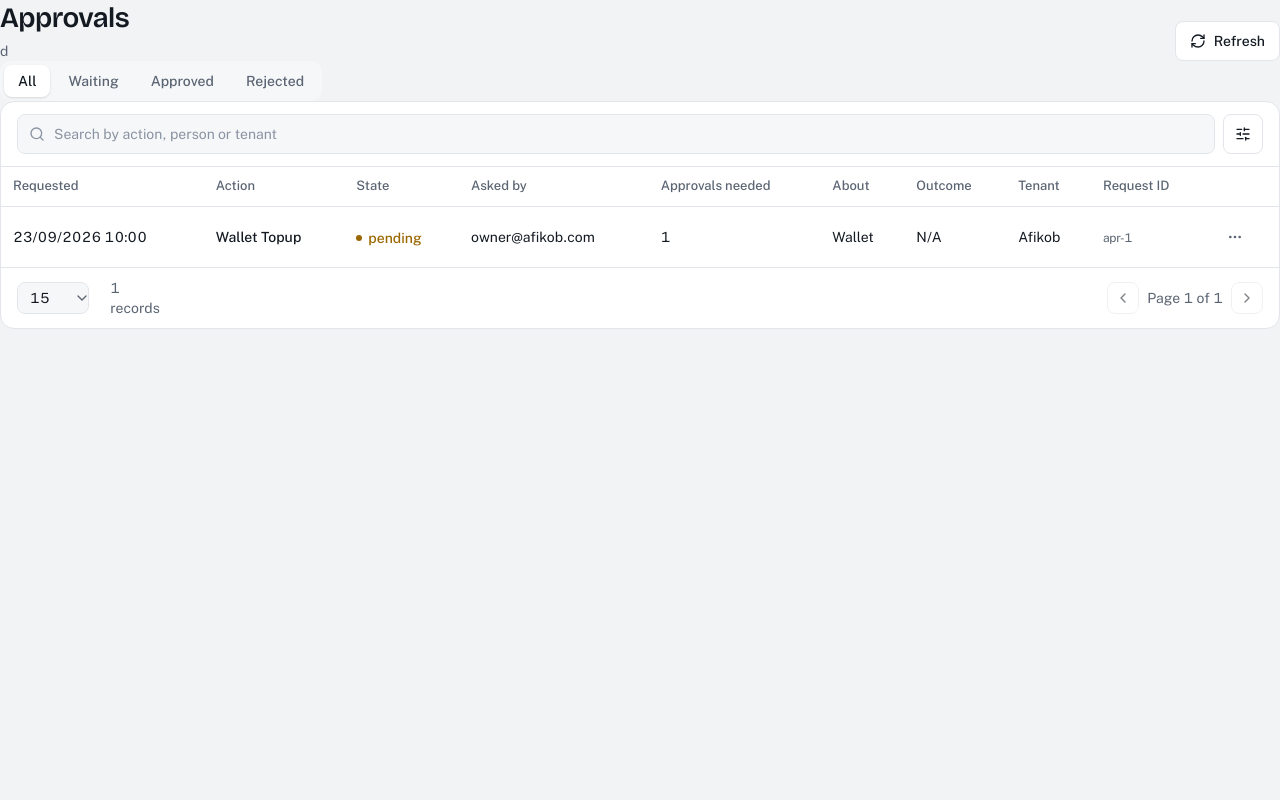
Test: Approvals inbox › lists what is waiting and shows what the action would do
Click the text "Wallet Topup" at (258, 237), box [216,229,301,245]
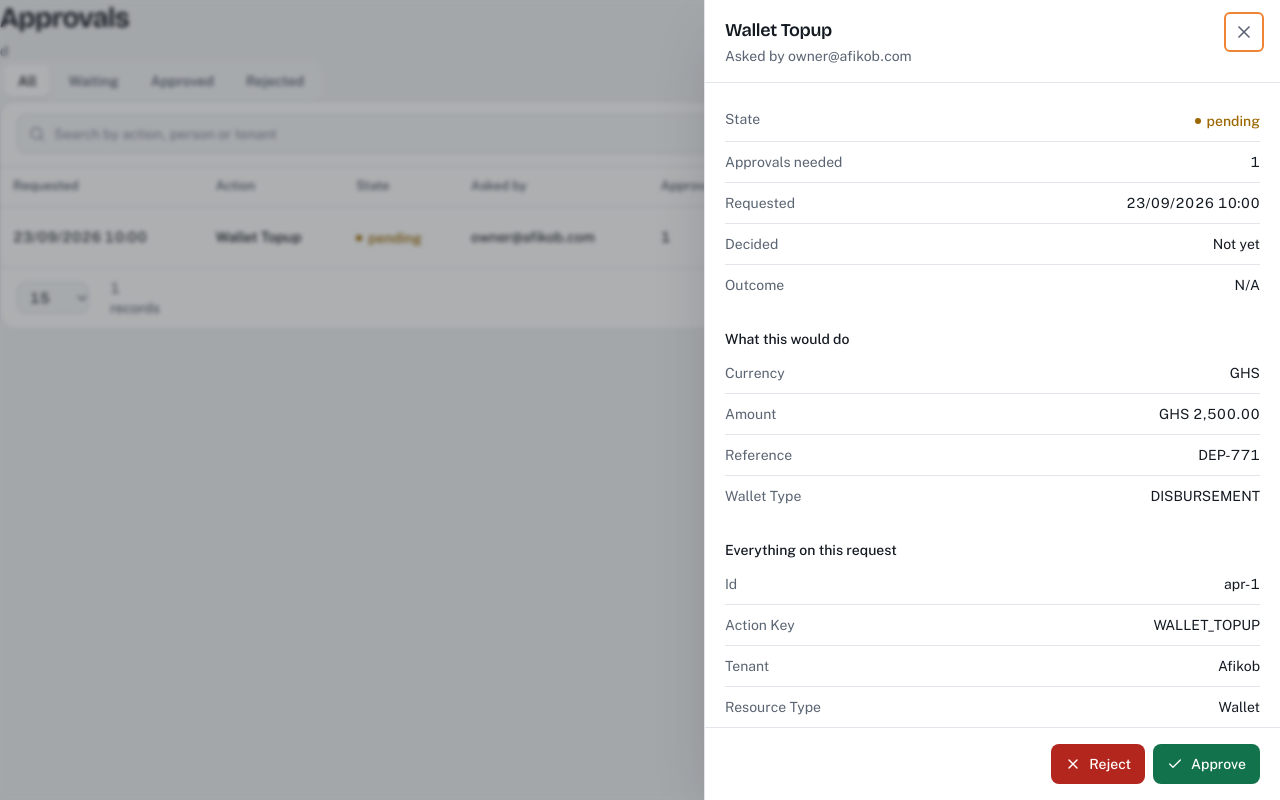
Check: the text "Amount" is shown, box [725,404,776,424]
Check: the text "GHS 2,500.00" is shown, box [1159,404,1260,424]
Check: the text "DEP-771" is shown, box [1198,445,1260,465]
